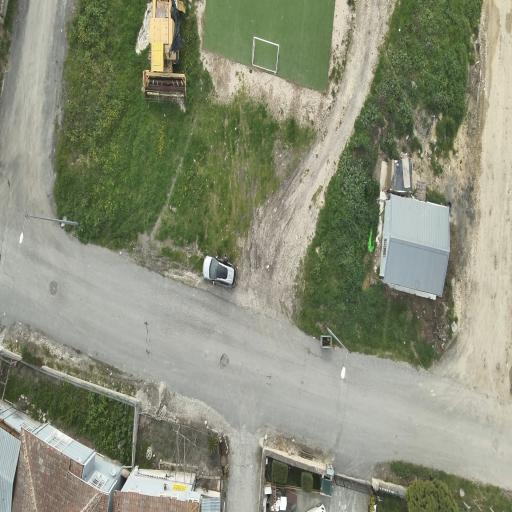car: (203, 255, 236, 286), (307, 502, 325, 511)
harvester: (143, 0, 186, 100)
